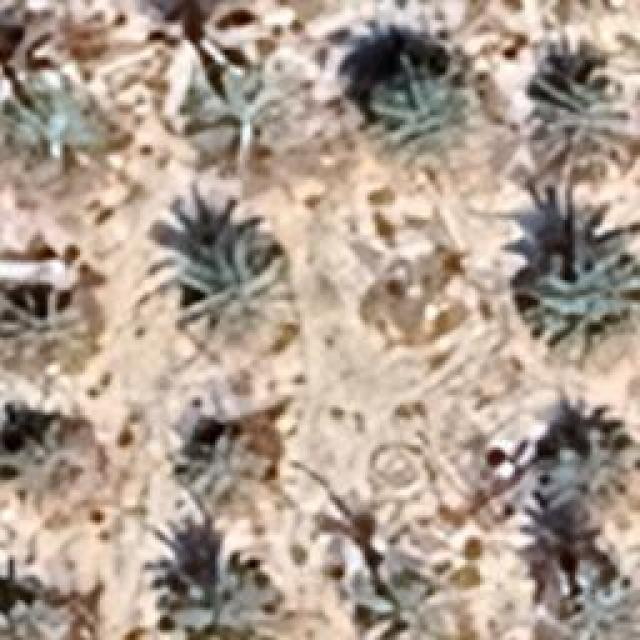PalmTree: (122, 97, 380, 540), (44, 63, 122, 608), (170, 372, 285, 530), (522, 70, 636, 192), (158, 544, 298, 638), (528, 219, 634, 339), (12, 74, 126, 158), (544, 422, 638, 518), (375, 68, 465, 168), (0, 290, 92, 380), (0, 420, 88, 502), (205, 70, 288, 152), (0, 3, 57, 116), (358, 572, 448, 638), (178, 235, 260, 300), (564, 572, 638, 638), (540, 0, 632, 15)
